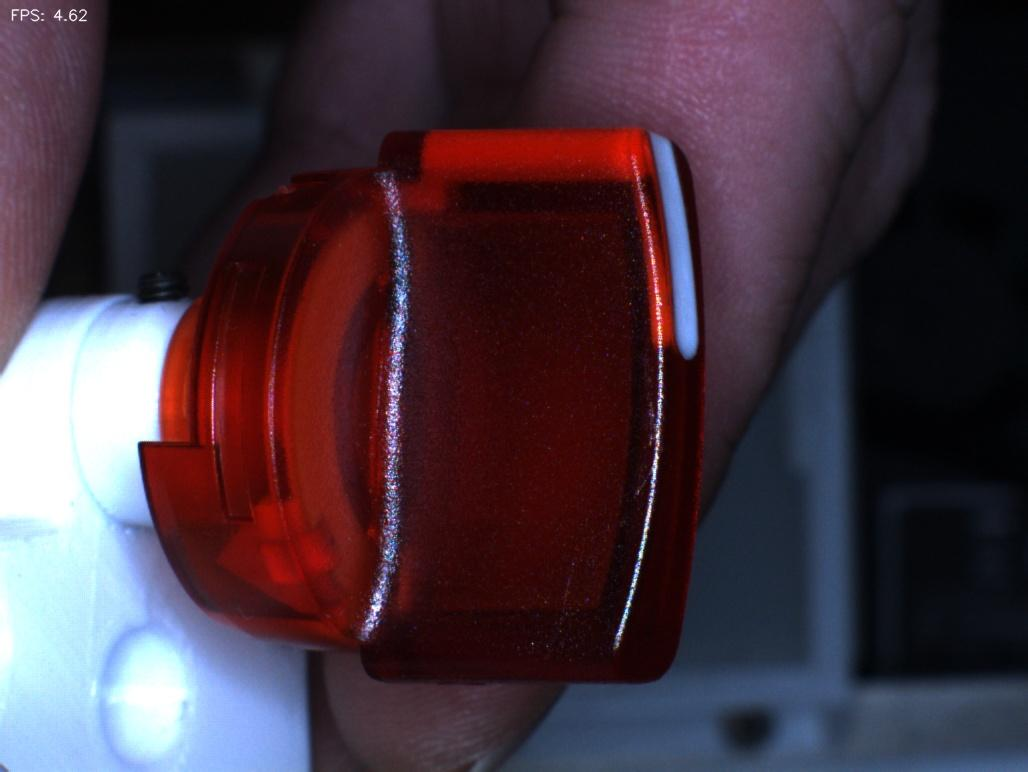Givrage: (608, 336, 682, 509)
